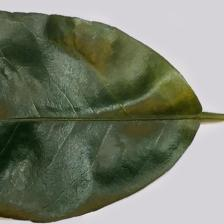healthy: (10, 25, 224, 173)
